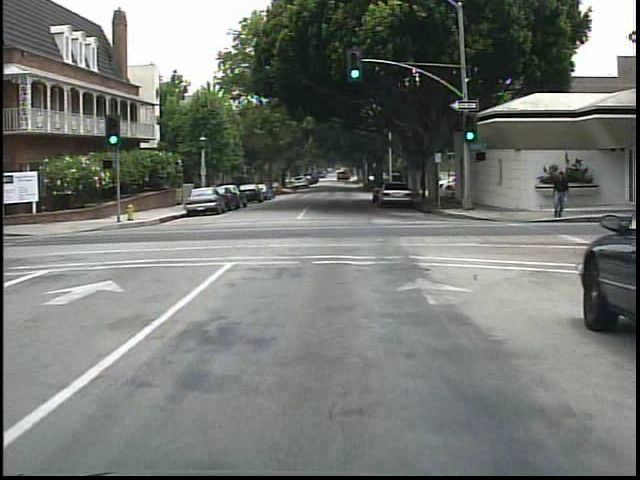person: (543, 169, 572, 221)
